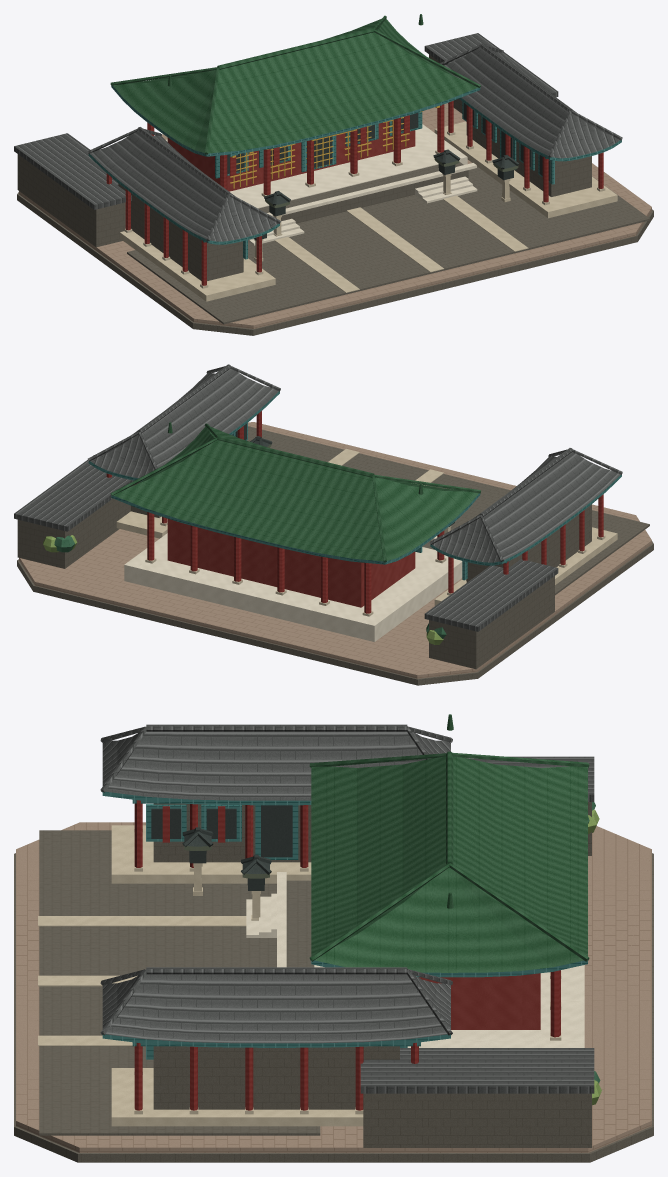
File: prince-kung.glb
3 renders of one model, top to bottom at view 1: azimuth 30°, elevation 25°; view 2: azimuth 150°, elevation 25°; view 3: azimuth 270°, elevation 25°, orthographic. The views are drawn at different scales.
Visible parts, largest first — view 1: 恭王府博物馆; view 2: 恭王府博物馆; view 3: 恭王府博物馆.
Part boxes in pixels (x1,y1,x2,y2): 恭王府博物馆: [14, 14, 653, 335]; 恭王府博物馆: [14, 364, 653, 685]; 恭王府博物馆: [14, 714, 653, 1162].
Bounding box in the file's own units: 12.55 × 3.47 × 10.3.
Materials: 15 (15 with a texture image).
